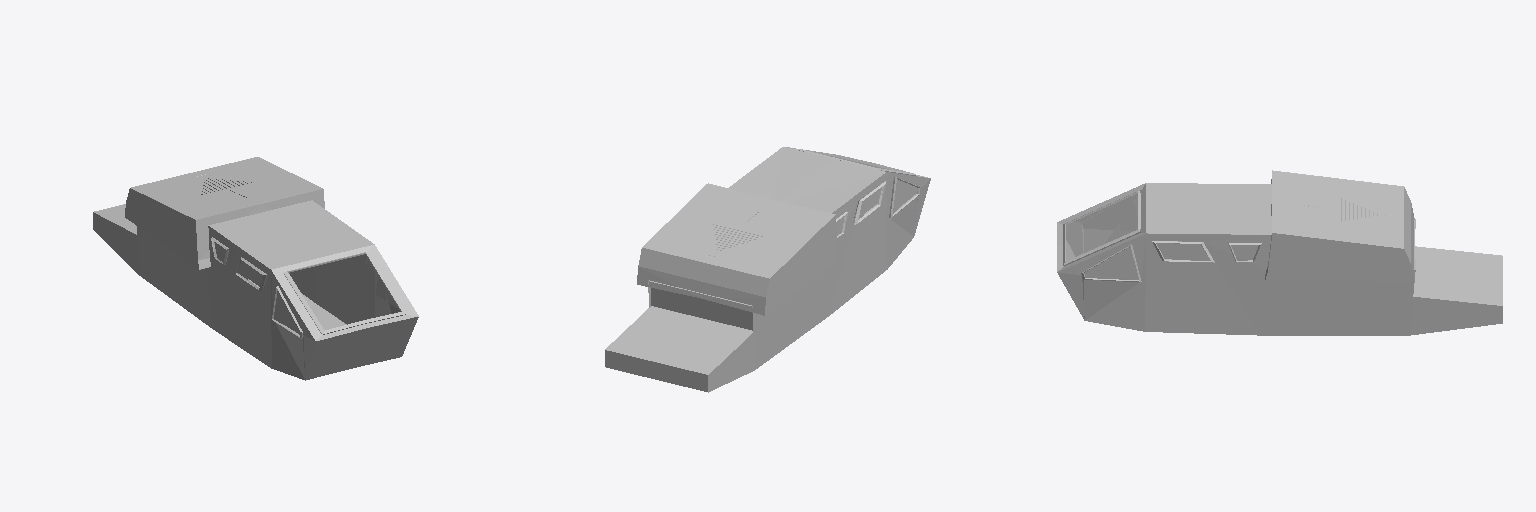
The model's file is ripsaw2tone.obj.
3 views of the same model, side by side, from view 1: azimuth 30°, elevation 25°; view 2: azimuth 150°, elevation 25°; view 3: azimuth 270°, elevation 25° (orthographic).
Visible parts, largest first — view 1: default; view 2: default; view 3: default.
Part boxes in pixels (bbox=[...]): default: bbox=[93, 157, 418, 380]; default: bbox=[605, 147, 930, 392]; default: bbox=[1057, 170, 1502, 335].
Bounding box in the file's own units: 2.13 × 1.73 × 6.42.